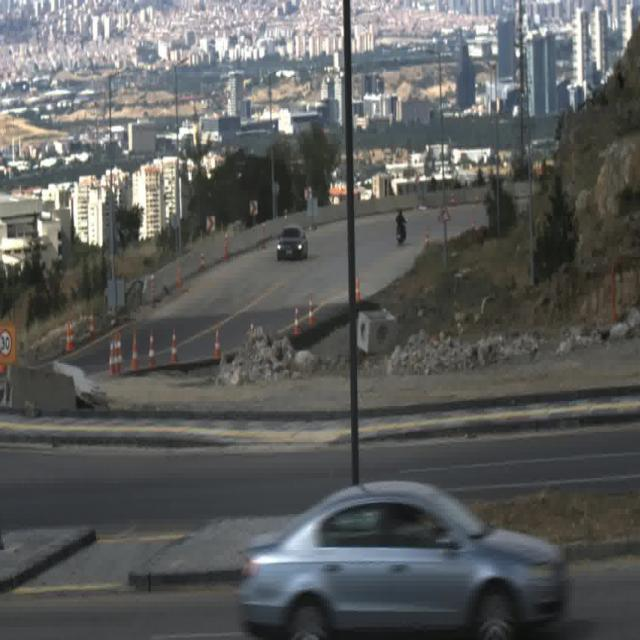Car: (241, 483, 570, 640), (276, 222, 306, 262)
Motorcycle: (394, 209, 408, 243)
